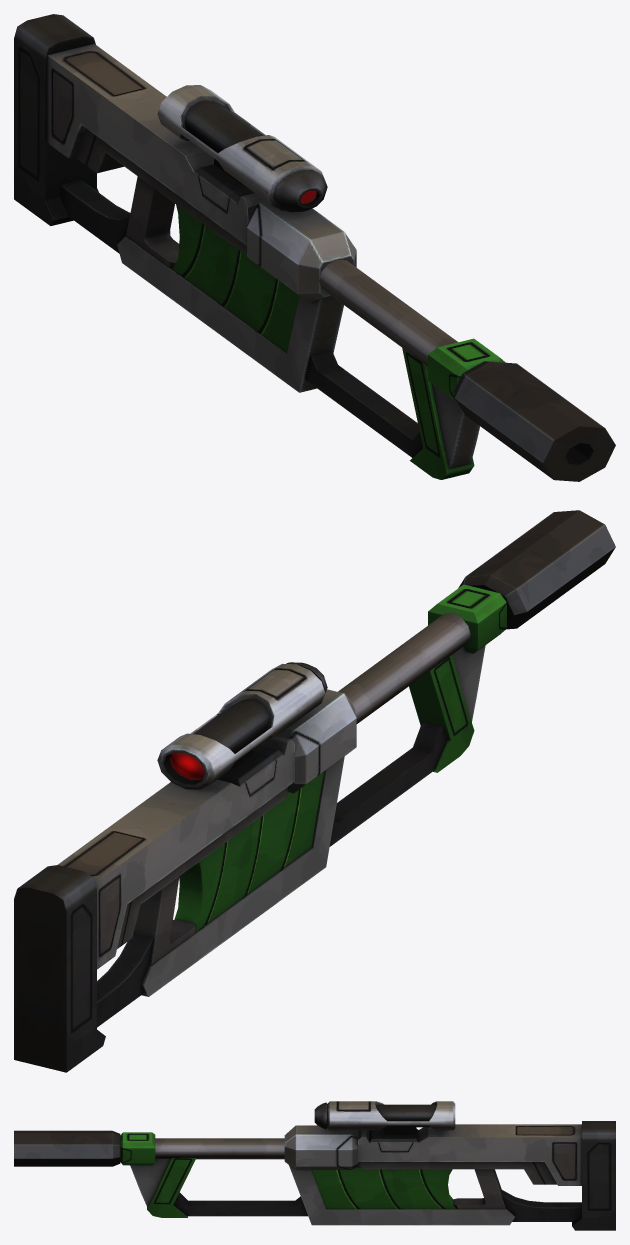
Rendered from Atreide_Sniper_TRUE_FBX.fbx.
3 views of the same model, one above another, from view 1: azimuth 30°, elevation 25°; view 2: azimuth 150°, elevation 25°; view 3: azimuth 270°, elevation 25° (orthographic). The views are drawn at different scales.
Parts seen in each view (by area): view 1: Sniper; view 2: Sniper; view 3: Sniper.
Boxes of the visible parts, <box> form: Sniper: <box>14,14,615,481</box>; Sniper: <box>14,510,615,1072</box>; Sniper: <box>14,1101,615,1230</box>.
Bounding box in the file's own units: 0.1111 × 1.42 × 0.312.
